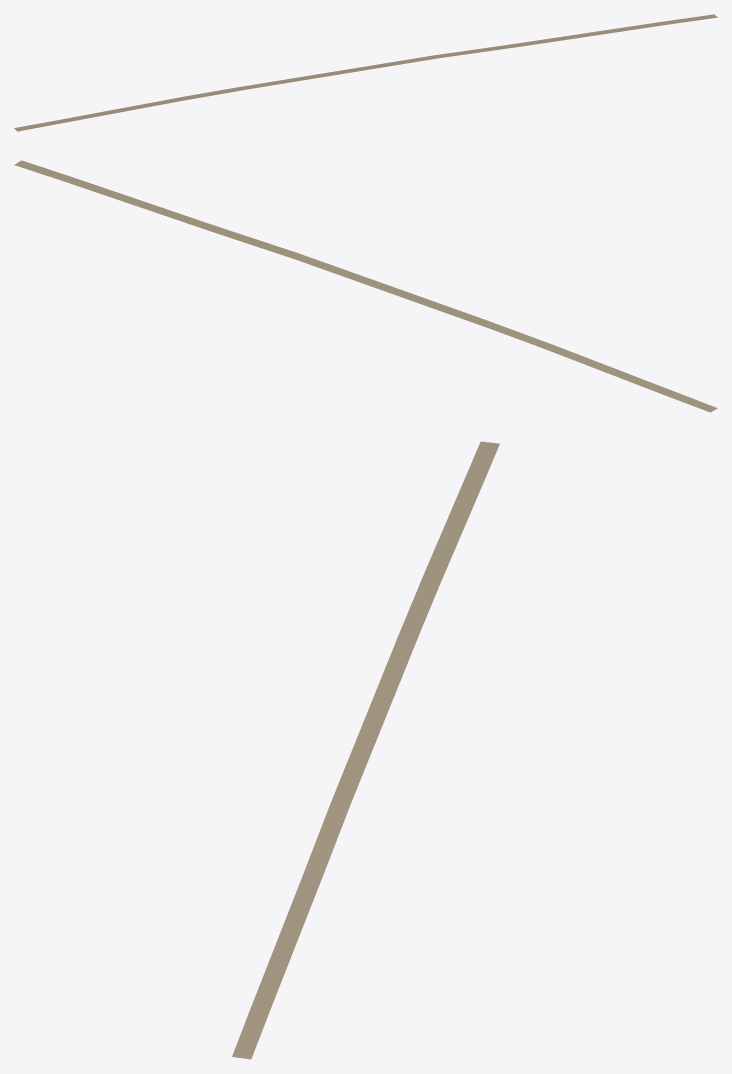
The model's file is farm_-48_-37_track.glb.
The picture shows the model from 3 angles, top to bottom: view 1: azimuth 30°, elevation 25°; view 2: azimuth 150°, elevation 25°; view 3: azimuth 270°, elevation 25°; orthographic projection. The views are drawn at different scales.
Parts seen in each view (by area): view 1: geometry_0; view 2: geometry_0; view 3: geometry_0.
Boxes of the visible parts, x1=… form: geometry_0: x1=14, y1=14, x2=717, y2=131; geometry_0: x1=14, y1=160, x2=717, y2=412; geometry_0: x1=232, y1=441, x2=499, y2=1059.
Size of the model in its own units: 246 by 2.72 by 44.7.
